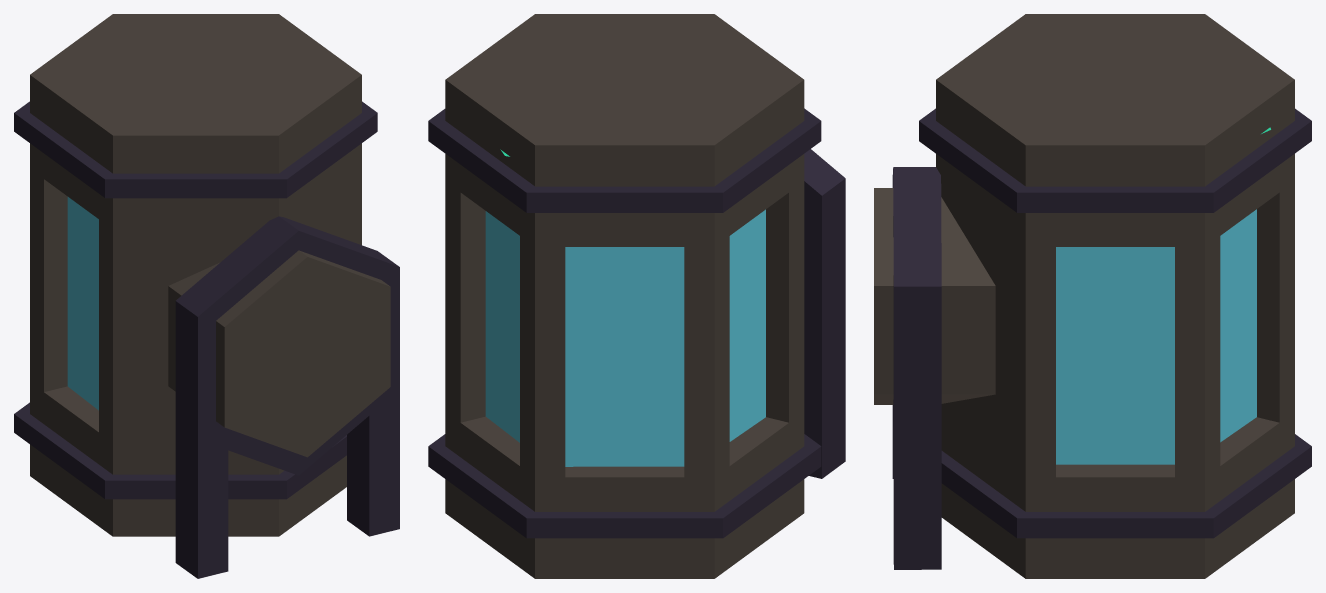
File: ExtractorLow.fbx
The picture shows the model from 3 angles, left to right: view 1: azimuth 30°, elevation 25°; view 2: azimuth 150°, elevation 25°; view 3: azimuth 270°, elevation 25°; orthographic projection. The views are drawn at different scales.
Visible parts, largest first — view 1: Extractor_LOD1; view 2: Extractor_LOD1; view 3: Extractor_LOD1.
Boxes of the visible parts, bbox=[...] form: Extractor_LOD1: bbox=[14, 14, 399, 578]; Extractor_LOD1: bbox=[428, 14, 845, 578]; Extractor_LOD1: bbox=[874, 14, 1311, 578].
Size of the model in its own units: 71.15 by 101 by 91.53.
